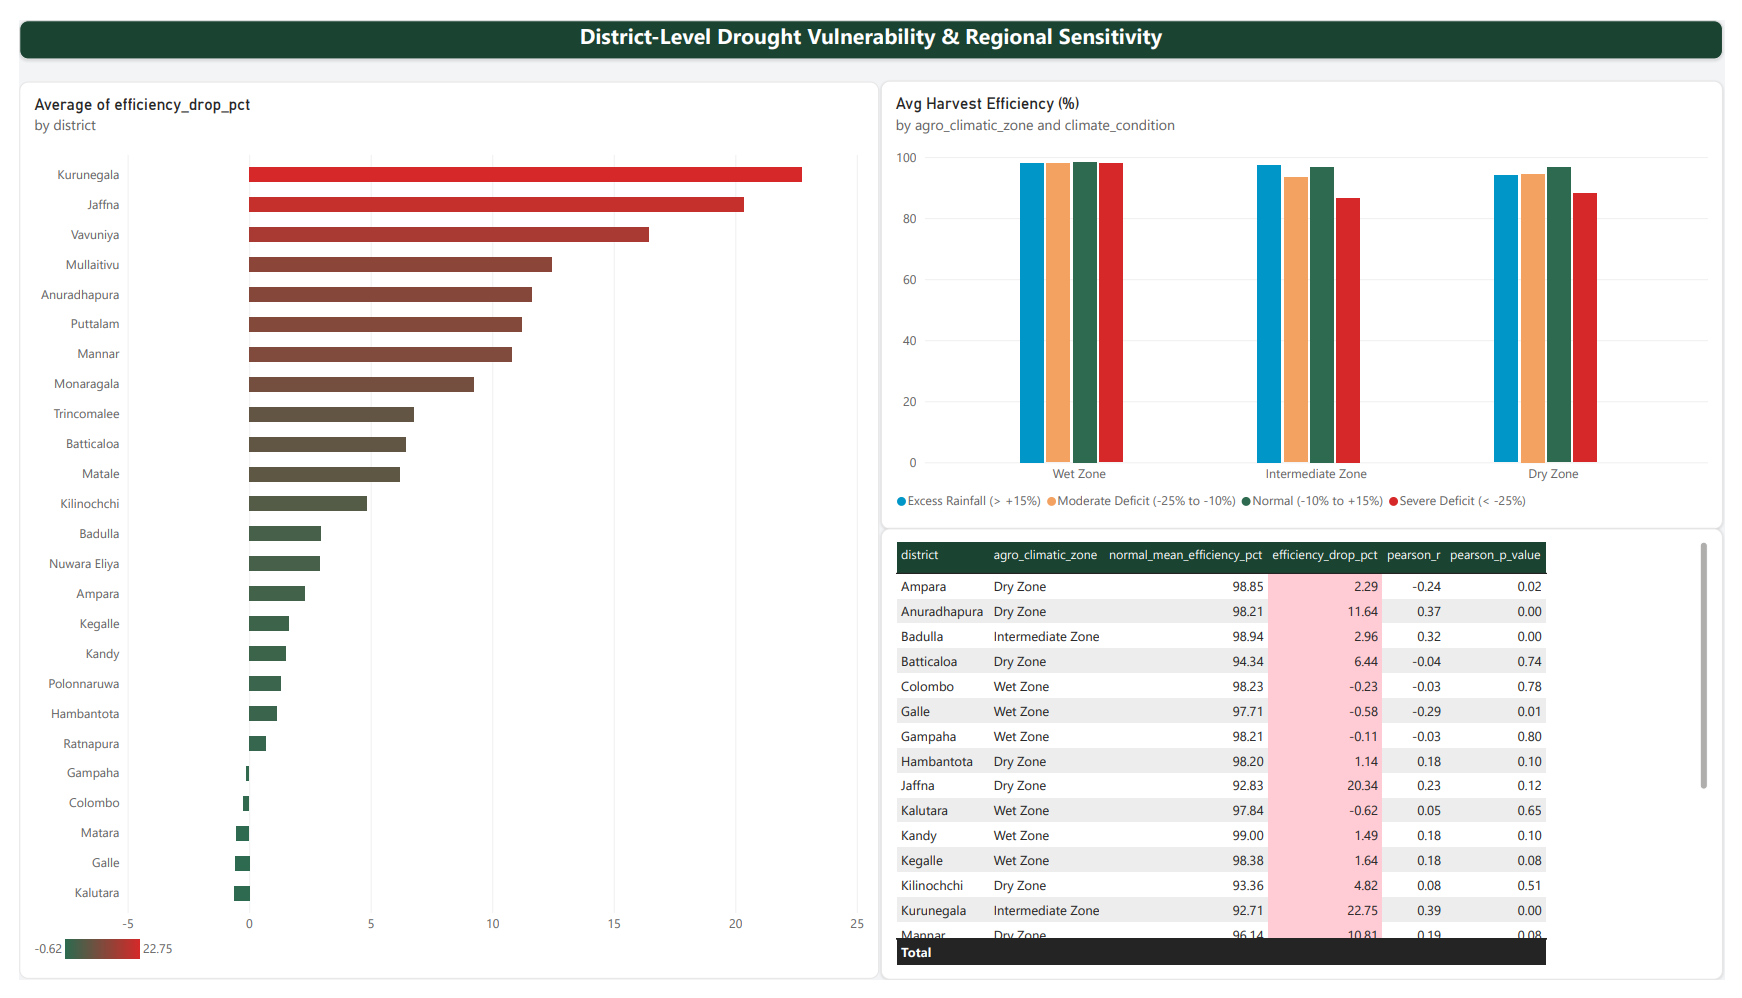

What the dashboard file says about the page in this screenshot:
{"tool":"powerbi","page":{"name":"2. District Vulnerability","canvas":[1920,1080],"ordinal":1},"visuals":[{"type":"textbox","box":[0,0,1917.8,43.5],"z":0},{"type":"clusteredBarChart","fields":{"Category":["District_Vulnerability.district"],"Y":["Avg(District_Vulnerability.efficiency_drop_pct)"]},"box":[0,68.7,968,1010.1],"z":1},{"type":"clusteredColumnChart","fields":{"Category":["Master_Paddy_Rainfall.agro_climatic_zone"],"Series":["Master_Paddy_Rainfall.climate_condition"],"Y":["Master_Paddy_Rainfall.Avg Harvest Efficiency (%)"]},"box":[969.8,68.4,948.5,504.1],"z":2},{"type":"tableEx","fields":{"Values":["District_Vulnerability.district","District_Vulnerability.agro_climatic_zone","District_Vulnerability.normal_mean_efficiency_pct","District_Vulnerability.efficiency_drop_pct","District_Vulnerability.pearson_r","District_Vulnerability.pearson_p_value"]},"box":[970,572,948,508],"z":3}]}

Visuals, with their boxes in screenshot pixels (x1, y1, x2, y2), scaled from the page's 1920x1080 canvas onto the 1742x998 screenshot:
textbox: {"left": 0, "top": 0, "right": 1740, "bottom": 40}
clusteredBarChart - District_Vulnerability.district x Avg(District_Vulnerability.efficiency_drop_pct): {"left": 0, "top": 63, "right": 878, "bottom": 997}
clusteredColumnChart - Master_Paddy_Rainfall.agro_climatic_zone x Master_Paddy_Rainfall.climate_condition: {"left": 880, "top": 63, "right": 1740, "bottom": 529}
tableEx - District_Vulnerability.district x District_Vulnerability.agro_climatic_zone: {"left": 880, "top": 529, "right": 1740, "bottom": 997}
